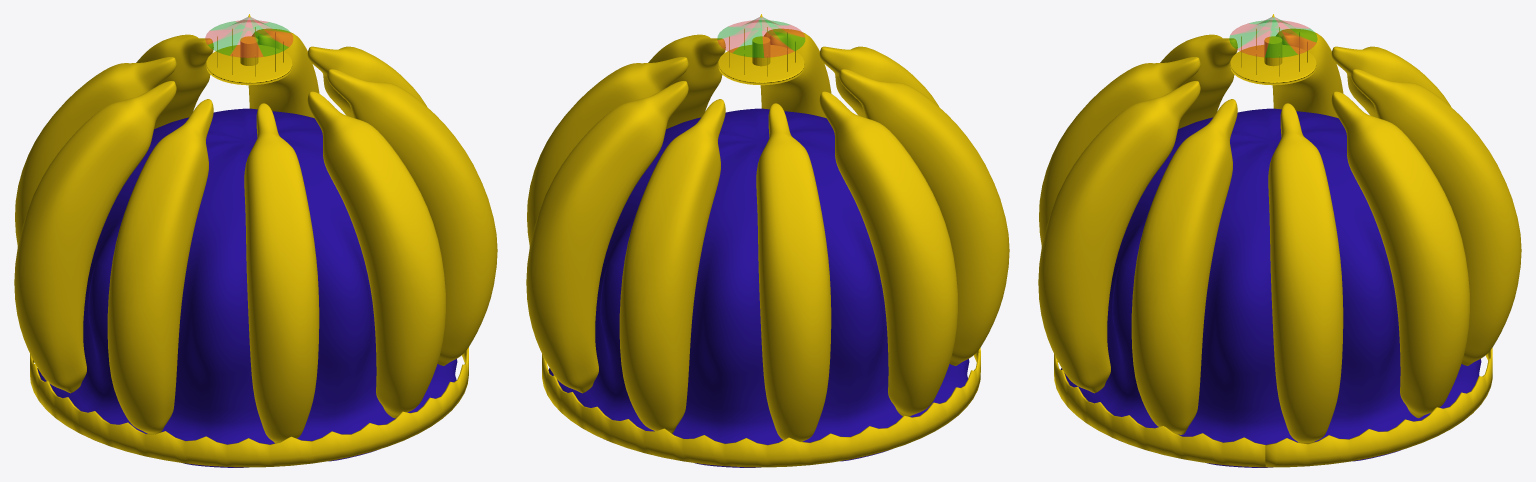
Rendered from crown.glb.
3 views of the same model, side by side, from view 1: azimuth 30°, elevation 25°; view 2: azimuth 150°, elevation 25°; view 3: azimuth 270°, elevation 25° (orthographic).
Visible parts, largest first — view 1: Cube, 円.001, 円, 円柱, 円柱.002, 円柱.004; view 2: Cube, 円.001, 円, 円柱, 円柱.002, 円柱.004; view 3: Cube, 円.001, 円, 円柱, 円柱.002, 円柱.004.
Part boxes in pixels (x1,y1,x2,y2): Cube: (14,28,497,443); 円.001: (37,108,457,467); 円: (30,347,468,467); 円柱: (205,14,292,57); 円柱.002: (206,45,292,85); 円柱.004: (240,36,258,65); Cube: (526,28,1009,441); 円.001: (548,108,969,467); 円: (542,348,980,467); 円柱: (717,14,804,57); 円柱.002: (718,45,804,85); 円柱.004: (752,36,770,66); Cube: (1038,28,1521,443); 円.001: (1060,108,1481,467); 円: (1054,348,1492,467); 円柱: (1229,14,1317,57); 円柱.002: (1230,45,1316,85); 円柱.004: (1264,36,1282,66).
Size of the model in its own units: 15.61 by 12.84 by 15.41.
